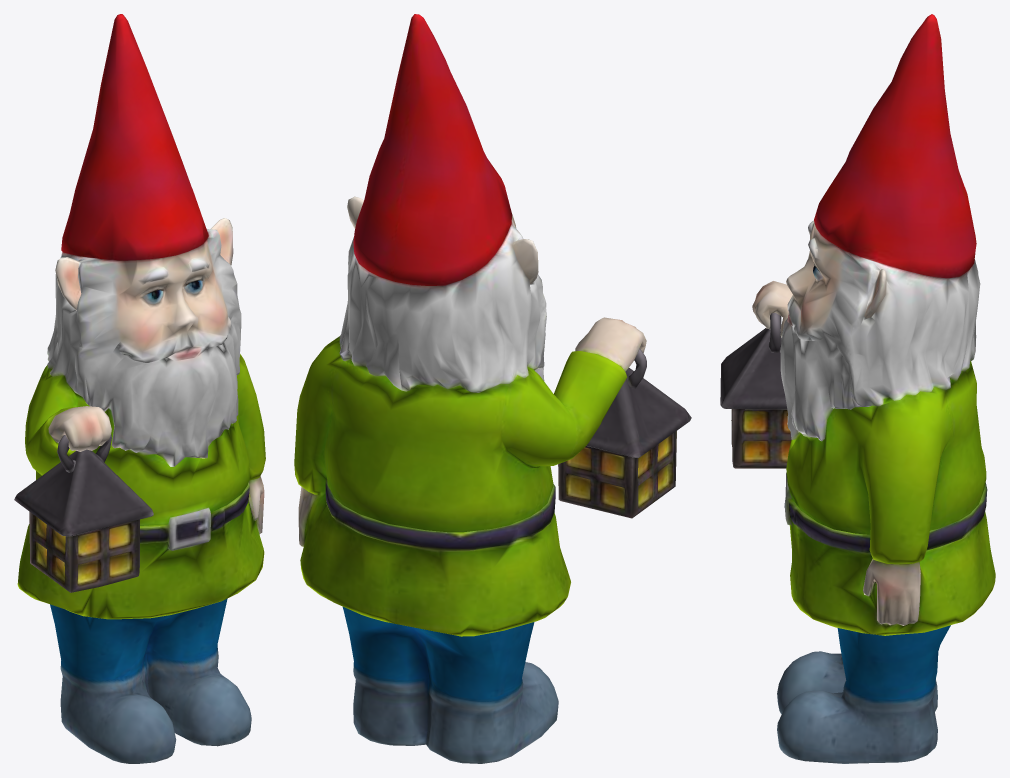
Rendered from garden_gnome.glb.
3 views of the same model, side by side, from view 1: azimuth 30°, elevation 25°; view 2: azimuth 150°, elevation 25°; view 3: azimuth 270°, elevation 25° (orthographic). The views are drawn at different scales.
Parts seen in each view (by area): view 1: garden_gnome; view 2: garden_gnome; view 3: garden_gnome.
Part boxes in pixels (x1,y1,x2,y2): garden_gnome: [14, 14, 265, 763]; garden_gnome: [294, 14, 691, 763]; garden_gnome: [720, 14, 995, 763].
Bounding box in the file's own units: 0.2574 × 0.5987 × 0.2097.
Materials: 1 (1 with a texture image).
